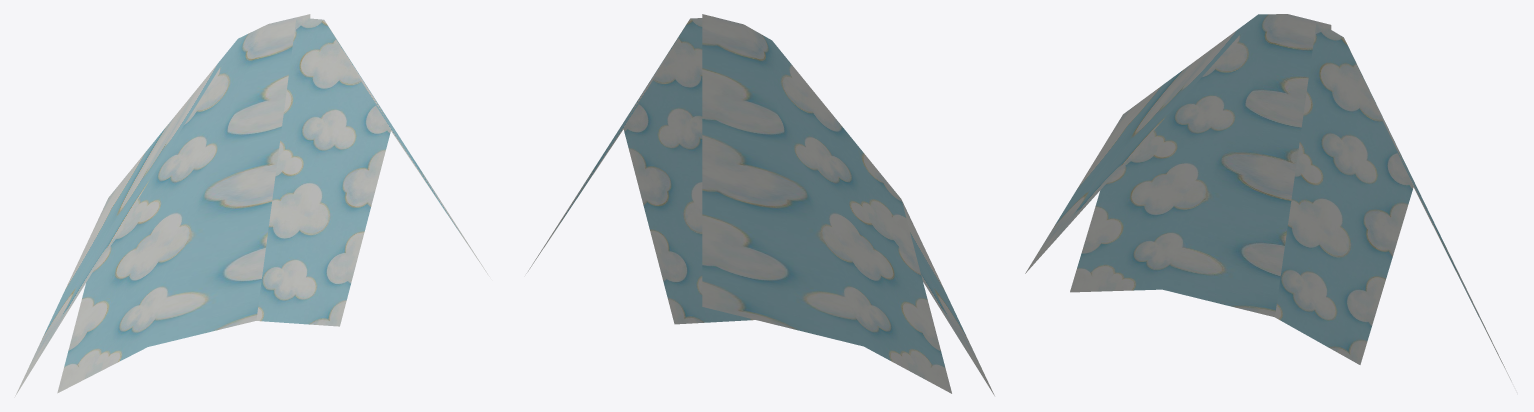
The picture shows the model from 3 angles, left to right: view 1: azimuth 30°, elevation 25°; view 2: azimuth 150°, elevation 25°; view 3: azimuth 330°, elevation 25°; orthographic projection. The views are drawn at different scales.
Parts seen in each view (by area): view 1: Origami_Model_33; view 2: Origami_Model_33; view 3: Origami_Model_33.
Part boxes in pixels (<box>): Origami_Model_33: <box>14,14,489,397</box>; Origami_Model_33: <box>526,14,994,395</box>; Origami_Model_33: <box>1025,14,1511,381</box>.
Size of the model in its own units: 0.34 by 0.2172 by 0.003.
1 material, 1 textured.
